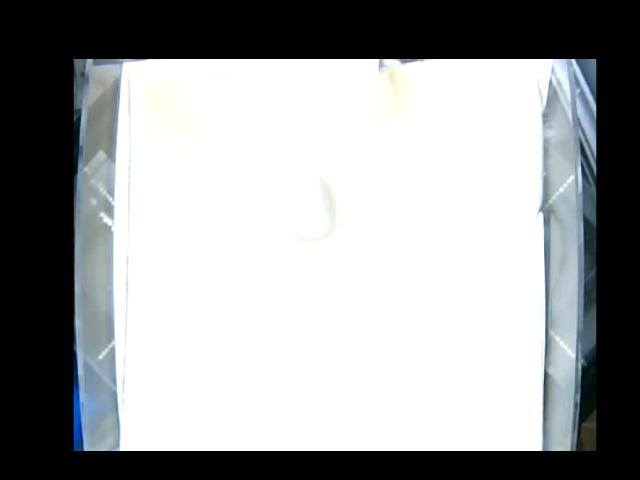Pebble: (274, 169, 330, 242)
